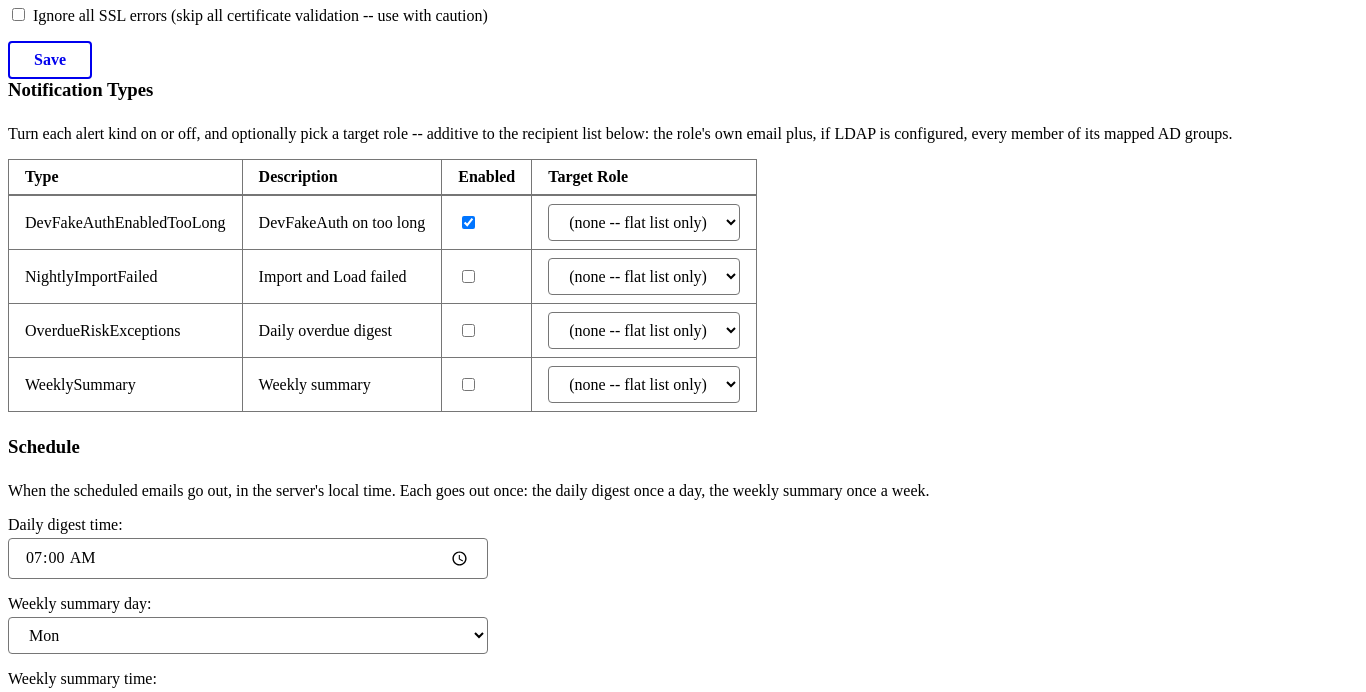
Test case: Notifications.vue › a refused target-role change shows the error and puts the select back on the saved role
This screenshot has width=1366, height=692.
(page scrolled)
Select "Admin" in the dropdown in the row of "WeeklySummary" at {"x": 644, "y": 384}, box [548,366,740,403]
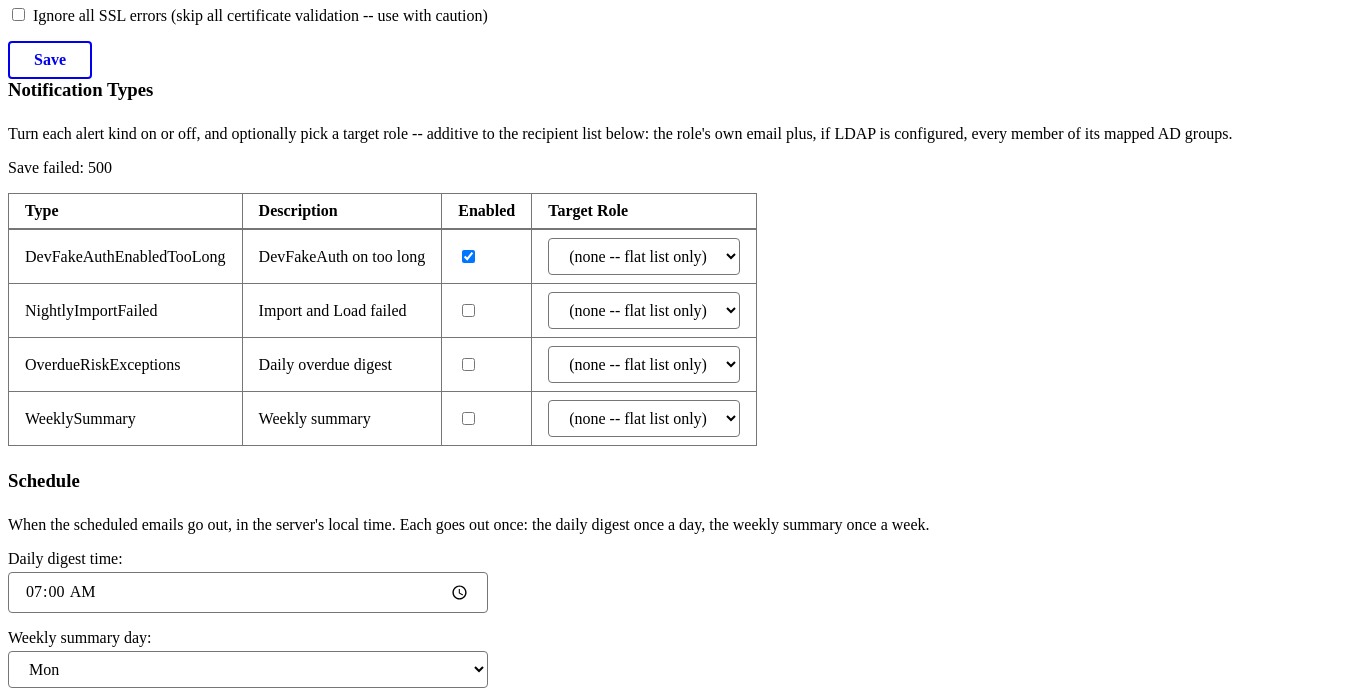
Expected: the text "Save failed: 500" is shown, [8,159,112,176]
